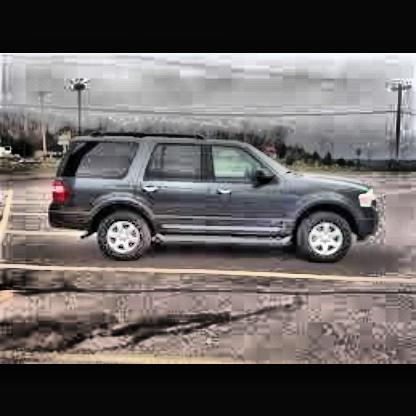Ford Expedition EL SUV 2009: (48, 127, 385, 268)
